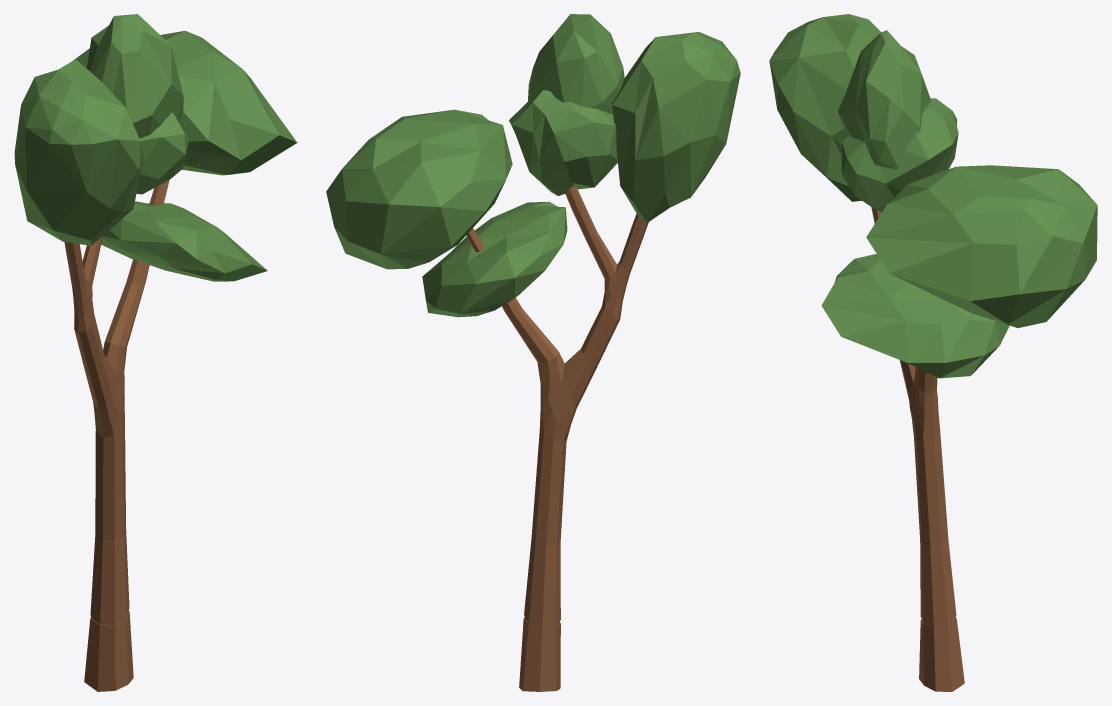
File: 055 Tree_3.FBX
The picture shows the model from 3 angles, left to right: view 1: azimuth 30°, elevation 25°; view 2: azimuth 150°, elevation 25°; view 3: azimuth 270°, elevation 25°; orthographic projection. The views are drawn at different scales.
Visible parts, largest first — view 1: Tree 199; view 2: Tree 199; view 3: Tree 199.
Part boxes in pixels (<box>): Tree 199: <box>14,14,297,691</box>; Tree 199: <box>326,14,740,691</box>; Tree 199: <box>769,14,1097,691</box>.
Bounding box in the file's own units: 201 × 410 × 189.
